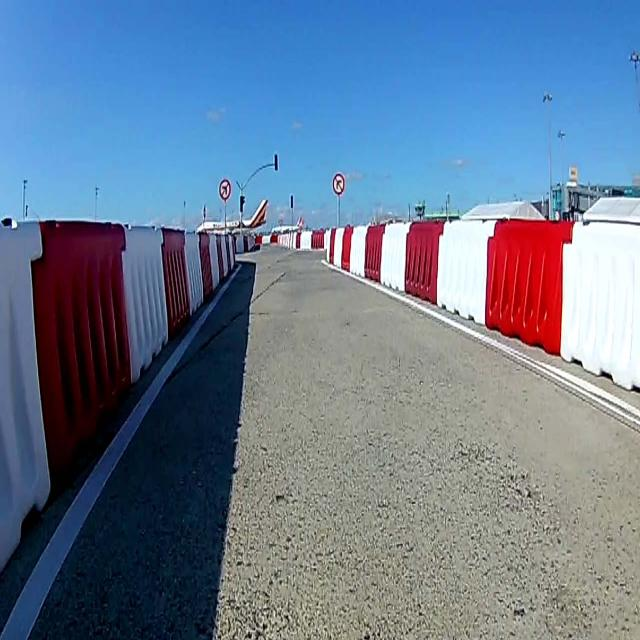sagadonulmez: (332, 173, 344, 194)
soladonulmez: (218, 180, 232, 200)
